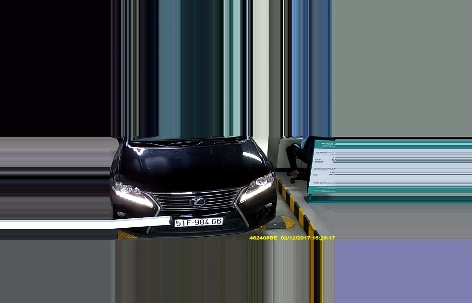plate: (173, 216, 224, 230)
